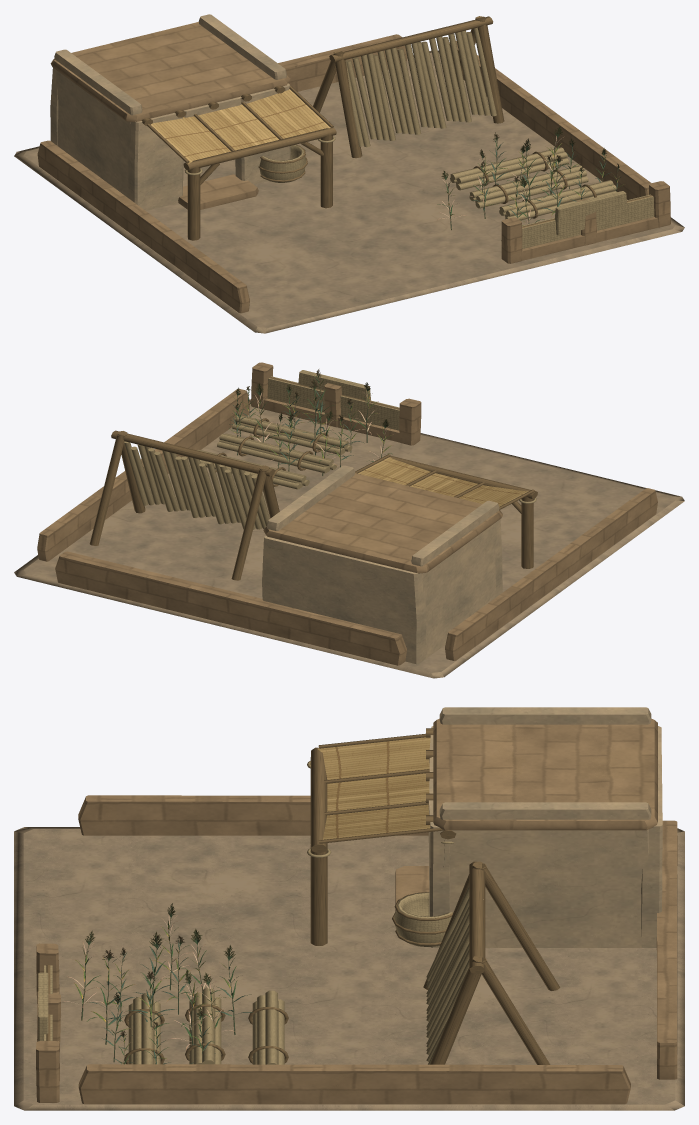
Rendered from reed.glb.
3 renders of one model, top to bottom at view 1: azimuth 30°, elevation 25°; view 2: azimuth 150°, elevation 25°; view 3: azimuth 270°, elevation 25°, orthographic. The views are drawn at different scales.
Visible parts, largest first — view 1: original-reed-alluvial-earth, original-reed-game-raw-brick-facing, original-reed-reed-mat, original-reed-warm-clay-plaster, original-reed-worn-timber, original-reed-laid-reed-thatch; view 2: original-reed-game-raw-brick-facing, original-reed-alluvial-earth, original-reed-warm-clay-plaster, original-reed-reed-mat, original-reed-worn-timber, original-reed-laid-reed-thatch; view 3: original-reed-alluvial-earth, original-reed-game-raw-brick-facing, original-reed-warm-clay-plaster, original-reed-worn-timber, original-reed-reed-mat, original-reed-laid-reed-thatch.
Boxes of the visible parts, left/top/right/bottom form: original-reed-alluvial-earth: left=14, top=50, right=684, bottom=333; original-reed-game-raw-brick-facing: left=37, top=22, right=670, bottom=313; original-reed-reed-mat: left=184, top=27, right=654, bottom=248; original-reed-warm-clay-plaster: left=50, top=14, right=290, bottom=210; original-reed-worn-timber: left=142, top=16, right=652, bottom=240; original-reed-laid-reed-thatch: left=151, top=89, right=330, bottom=163; original-reed-game-raw-brick-facing: left=37, top=362, right=657, bottom=665; original-reed-alluvial-earth: left=14, top=399, right=684, bottom=678; original-reed-warm-clay-plaster: left=262, top=465, right=502, bottom=664; original-reed-reed-mat: left=124, top=370, right=536, bottom=529; original-reed-worn-timber: left=89, top=377, right=537, bottom=580; original-reed-laid-reed-thatch: left=358, top=457, right=528, bottom=506; original-reed-alluvial-earth: left=14, top=827, right=684, bottom=1110; original-reed-game-raw-brick-facing: left=36, top=718, right=677, bottom=1104; original-reed-warm-clay-plaster: left=428, top=707, right=662, bottom=947; original-reed-worn-timber: left=46, top=728, right=560, bottom=1064; original-reed-reed-mat: left=38, top=761, right=483, bottom=1064; original-reed-laid-reed-thatch: left=318, top=737, right=430, bottom=839.
Bounding box in the file's own units: 10.77 × 2.52 × 10.77.
13 materials, 12 textured.
